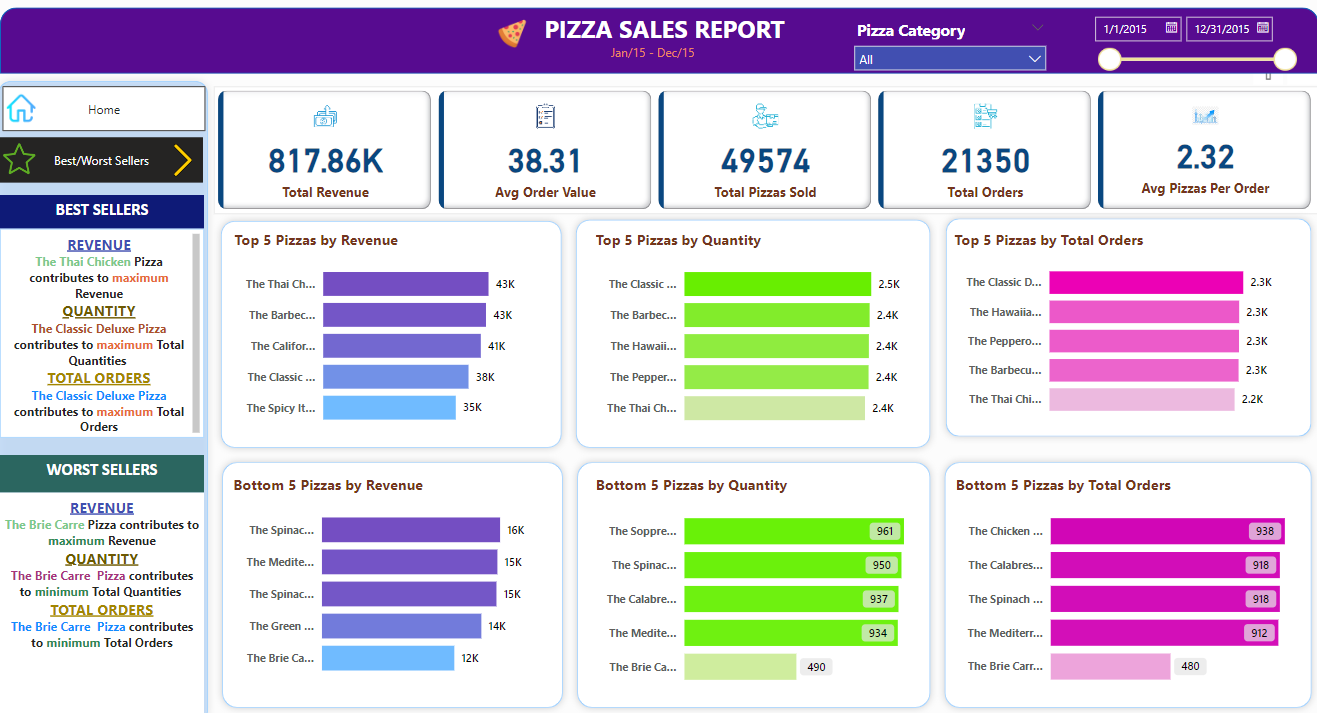

This screenshot's page, from the dashboard's own definition file:
{"tool":"powerbi","page":{"name":"Best/Worst Sellers","canvas":[1500,820],"ordinal":1},"visuals":[{"type":"shape","box":[1.4,87.7,249.2,732.3],"z":0},{"type":"cardVisual","fields":{"Data":["Pizza_Sales.Total Revenue","Pizza_Sales.Avg Order Value","Pizza_Sales.Total Pizzas Sold","Pizza_Sales.Total Orders","Pizza_Sales.Avg Pizzas Per Order"]},"box":[249.2,101.6,1230.7,142],"z":1000},{"type":"shape","box":[11.1,13.9,1468.8,73.8],"z":2000},{"type":"textbox","box":[600,13.9,302.1,50.1],"z":3000},{"type":"textbox","box":[686.3,50.1,112.8,27.8],"z":4000},{"type":"image","box":[541.6,22.3,79.4,41.8],"z":5000},{"type":"shape","box":[249.2,243.6,395.4,268.7],"z":6000},{"type":"textbox","box":[11.1,222.8,226.9,37.6],"z":7000},{"type":"textbox","box":[11.1,260.3,226.9,232.5],"z":8000},{"type":"textbox","box":[11.1,554.1,226.9,247.8],"z":9000},{"type":"textbox","box":[11.1,512.3,226.9,41.8],"z":10000},{"type":"slicer","fields":{"Values":["Pizza_Sales.pizza_category"]},"box":[952.3,22.3,233.9,79.4],"z":11000},{"type":"slicer","fields":{"Values":["Pizza_Sales.order_date"]},"box":[1218.2,13.9,245,73.8],"z":12000},{"type":"shape","box":[644.6,242.2,410.7,270.1],"z":13000},{"type":"shape","box":[1056.5,241.2,422.9,258.9],"z":14000},{"type":"shape","box":[250.6,512.3,395.4,289.6],"z":15000},{"type":"shape","box":[646,512.3,409.3,289.6],"z":16000},{"type":"shape","box":[1055.3,512.3,424.6,289.6],"z":17000},{"type":"barChart","title":"Top 5 Pizzas by Revenue","fields":{"Category":["Pizza_Sales.pizza_name"],"Y":["Pizza_Sales.Total Revenue"]},"box":[267.3,260.3,363.4,232.5],"z":18000},{"type":"barChart","title":"Bottom 5 Pizzas by Revenue","fields":{"Category":["Pizza_Sales.pizza_name"],"Y":["Pizza_Sales.Total Revenue"]},"box":[265.3,533.9,363.4,239.6],"z":19000},{"type":"barChart","title":"Top 5 Pizzas by Quantity","fields":{"Category":["Pizza_Sales.pizza_name"],"Y":["Pizza_Sales.Total Pizzas Sold"]},"box":[669,260.5,363.4,233.2],"z":20000},{"type":"barChart","title":"Bottom 5 Pizzas by Quantity","fields":{"Category":["Pizza_Sales.pizza_name"],"Y":["Pizza_Sales.Total Pizzas Sold"]},"box":[669,533.9,363.4,250.9],"z":21000},{"type":"barChart","title":"Top 5 Pizzas by Total Orders","fields":{"Category":["Pizza_Sales.pizza_name"],"Y":["Pizza_Sales.Total Orders"]},"box":[1069.4,260.5,394,221.9],"z":22000},{"type":"barChart","title":"Bottom 5 Pizzas by Total Orders","fields":{"Category":["Pizza_Sales.pizza_name"],"Y":["Pizza_Sales.Total Orders"]},"box":[1070.6,533.2,394,250.6],"z":23000},{"type":"pageNavigator","box":[11.1,158.7,226.9,50.1],"z":23001},{"type":"pageNavigator","box":[13.9,101.6,226.9,50.1],"z":23002},{"type":"image","box":[192.1,158.7,45.9,50.1],"z":23003},{"type":"image","box":[13.9,104.4,41.8,43.2],"z":23004},{"type":"image","box":[9.7,158.7,45.9,47.3],"z":23005}]}

Visuals, with their boxes in screenshot pixels (x1, y1, x2, y2), scaled from the page's 1500x820 canvas onto the 1317x713 screenshot:
shape: <bbox>1, 76, 220, 712</bbox>
cardVisual - Pizza_Sales.Total Revenue x Pizza_Sales.Avg Order Value: <bbox>219, 88, 1299, 212</bbox>
shape: <bbox>10, 12, 1299, 76</bbox>
textbox: <bbox>527, 12, 792, 56</bbox>
textbox: <bbox>603, 44, 702, 68</bbox>
image: <bbox>476, 19, 545, 56</bbox>
shape: <bbox>219, 212, 566, 445</bbox>
textbox: <bbox>10, 194, 209, 226</bbox>
textbox: <bbox>10, 226, 209, 428</bbox>
textbox: <bbox>10, 482, 209, 697</bbox>
textbox: <bbox>10, 445, 209, 482</bbox>
slicer - Pizza_Sales.pizza_category: <bbox>836, 19, 1041, 88</bbox>
slicer - Pizza_Sales.order_date: <bbox>1070, 12, 1285, 76</bbox>
shape: <bbox>566, 211, 927, 445</bbox>
shape: <bbox>928, 210, 1299, 435</bbox>
shape: <bbox>220, 445, 567, 697</bbox>
shape: <bbox>567, 445, 927, 697</bbox>
shape: <bbox>927, 445, 1299, 697</bbox>
"Top 5 Pizzas by Revenue" barChart: <bbox>235, 226, 554, 428</bbox>
"Bottom 5 Pizzas by Revenue" barChart: <bbox>233, 464, 552, 673</bbox>
"Top 5 Pizzas by Quantity" barChart: <bbox>587, 227, 906, 429</bbox>
"Bottom 5 Pizzas by Quantity" barChart: <bbox>587, 464, 906, 682</bbox>
"Top 5 Pizzas by Total Orders" barChart: <bbox>939, 227, 1285, 419</bbox>
"Bottom 5 Pizzas by Total Orders" barChart: <bbox>940, 464, 1286, 682</bbox>
pageNavigator: <bbox>10, 138, 209, 182</bbox>
pageNavigator: <bbox>12, 88, 211, 132</bbox>
image: <bbox>169, 138, 209, 182</bbox>
image: <bbox>12, 91, 49, 128</bbox>
image: <bbox>9, 138, 49, 179</bbox>
